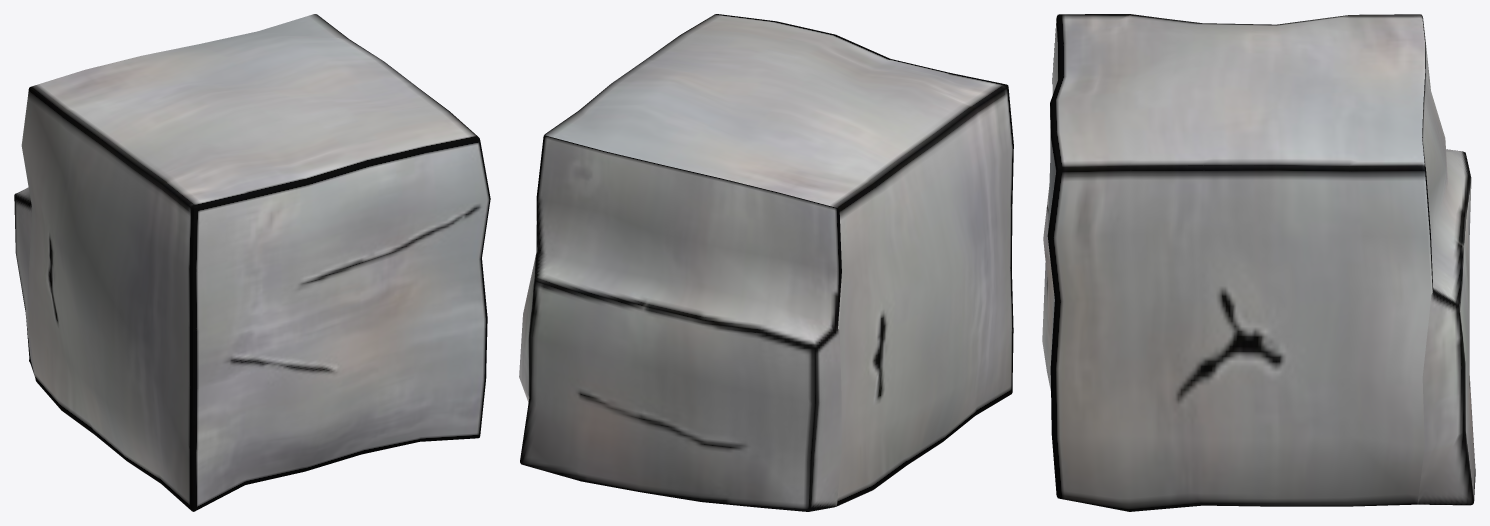
File: cubic_rock_01.fbx
3 renders of one model, left to right at view 1: azimuth 30°, elevation 25°; view 2: azimuth 150°, elevation 25°; view 3: azimuth 270°, elevation 25°, orthographic. The views are drawn at different scales.
Parts seen in each view (by area): view 1: cubic_rock_01; view 2: cubic_rock_01; view 3: cubic_rock_01.
Boxes of the visible parts, x1,y1,x2,y2 form: cubic_rock_01: [14, 14, 490, 511]; cubic_rock_01: [519, 14, 1013, 511]; cubic_rock_01: [1042, 14, 1475, 511].
Size of the model in its own units: 49.44 by 46.65 by 50.16.
Materials: 1 (1 with a texture image).
